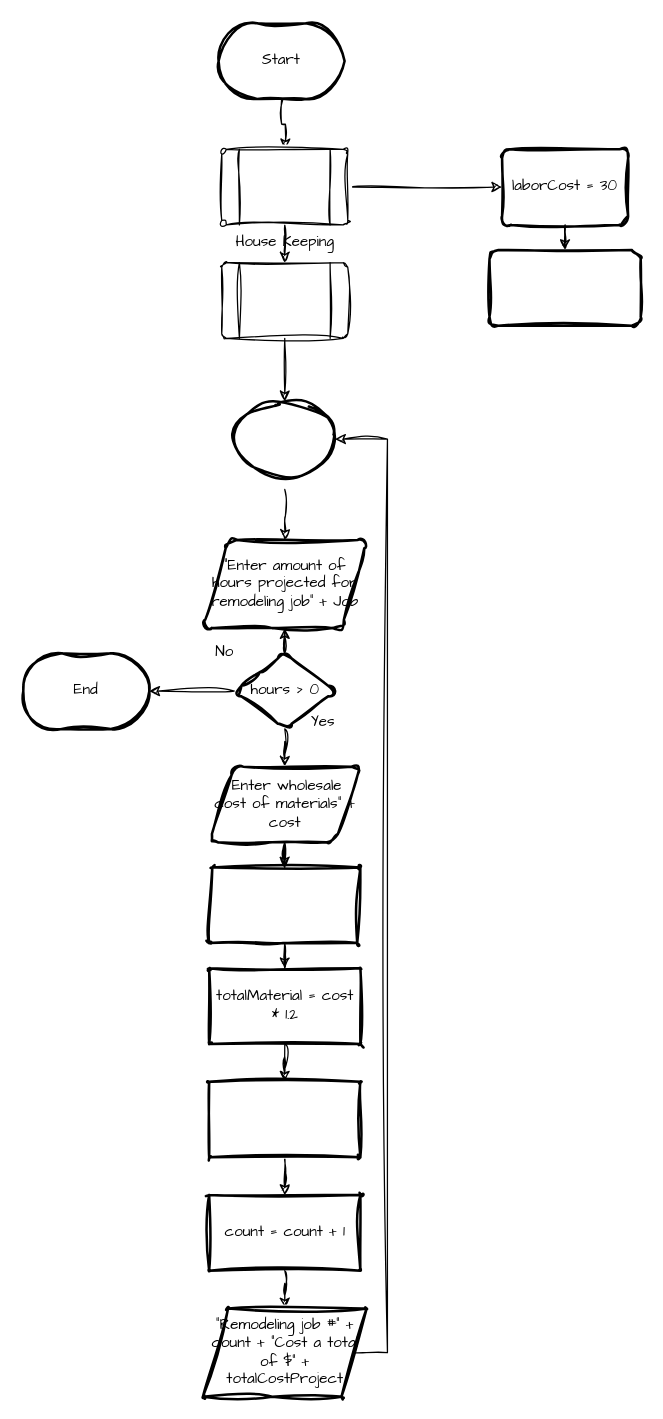
The diagram is 663 pixels wide and 1419 high, and some of its shapes have lost their labels. Here are the shapes that lost their labels. From the top down, the box of each, then its label:
(220, 261, 348, 338): Main processing
(488, 248, 641, 326): count = 0
(232, 399, 336, 478): Loop
(207, 866, 361, 944): totalLabor = laborCost * hours
(207, 1080, 361, 1158): totalcostproject = totalLabor + totalMaterial
